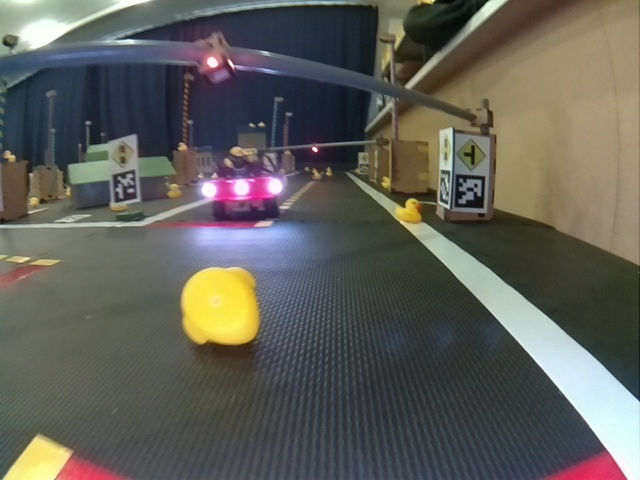Duckie: (180, 266, 258, 341), (397, 198, 421, 224), (166, 183, 180, 198)
Duckiebot: (202, 168, 282, 217)
Intersection sign: (459, 137, 490, 168)
QR code: (457, 174, 487, 208), (111, 174, 140, 202), (440, 172, 450, 209)
Signal sign: (110, 140, 137, 168), (438, 133, 451, 168)
Traffic light: (194, 31, 232, 78), (312, 145, 320, 152)
